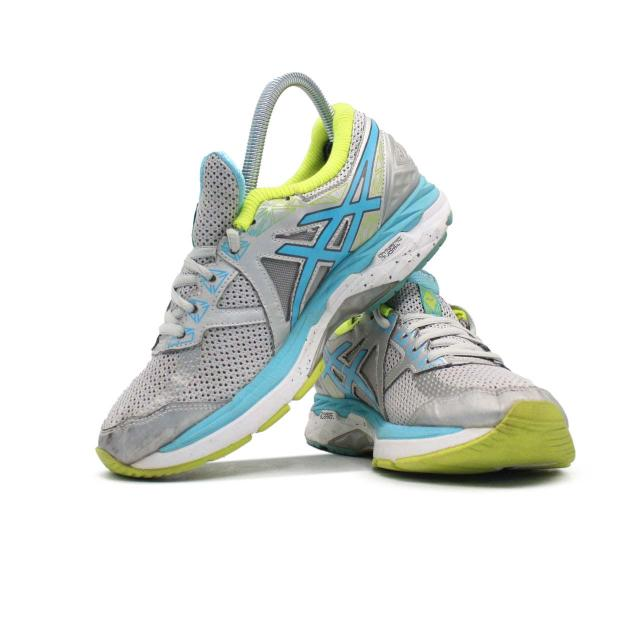heel: (330, 101, 420, 211)
midsole: (95, 177, 455, 480), (306, 395, 576, 477)
uppersole: (98, 153, 395, 456), (338, 273, 566, 425)
